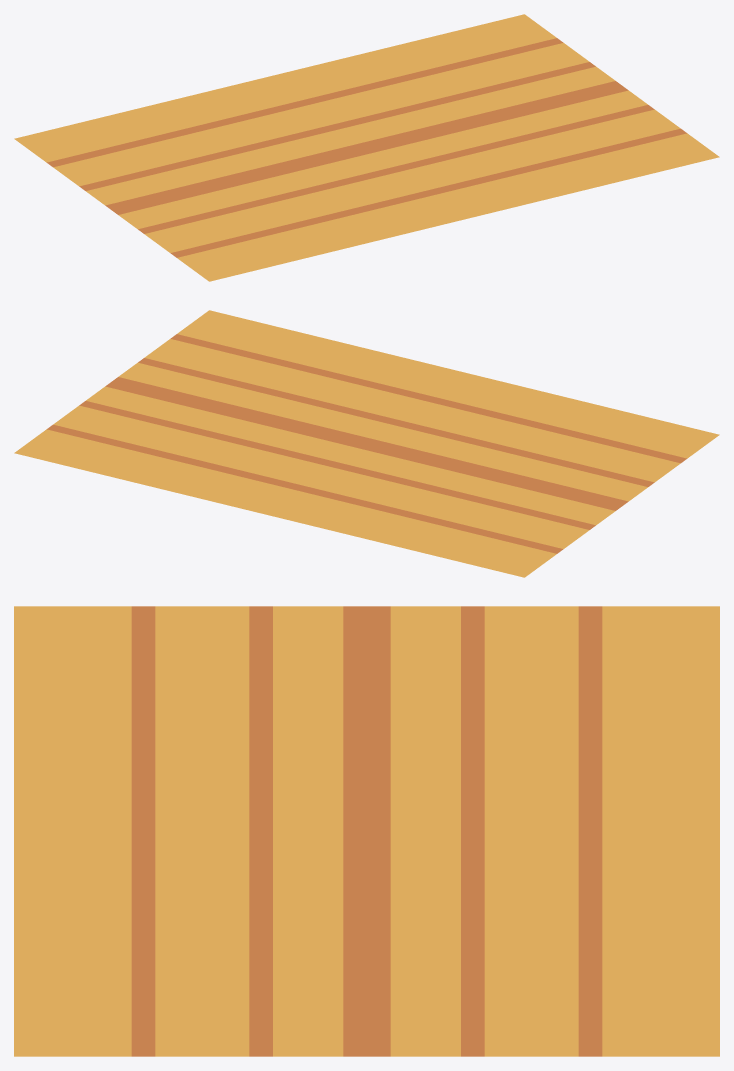
Rendered from floor.glb.
3 views of the same model, one above another, from view 1: azimuth 30°, elevation 25°; view 2: azimuth 150°, elevation 25°; view 3: azimuth 270°, elevation 25° (orthographic). The views are drawn at different scales.
Visible parts, largest first — view 1: Floor; view 2: Floor; view 3: Floor.
Boxes of the visible parts, x1,y1,x2,y2 form: Floor: (14, 14, 719, 281); Floor: (14, 310, 719, 577); Floor: (14, 606, 719, 1056).
Size of the model in its own units: 8 by 2.24e-08 by 5.3.
